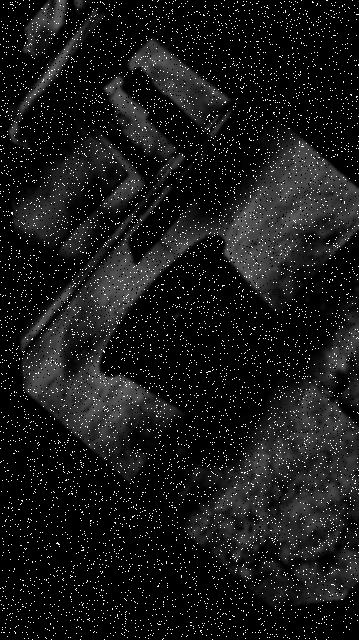pot: (100, 235, 285, 420)
